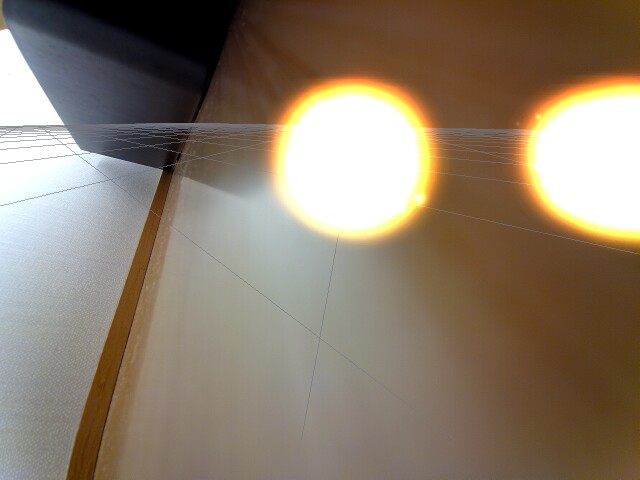firebig: (234, 64, 444, 248)
